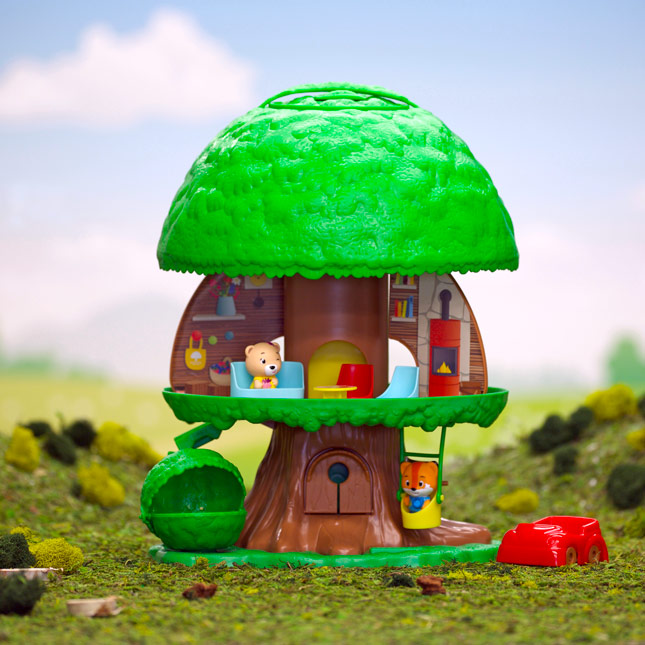toy: (158, 84, 593, 598)
